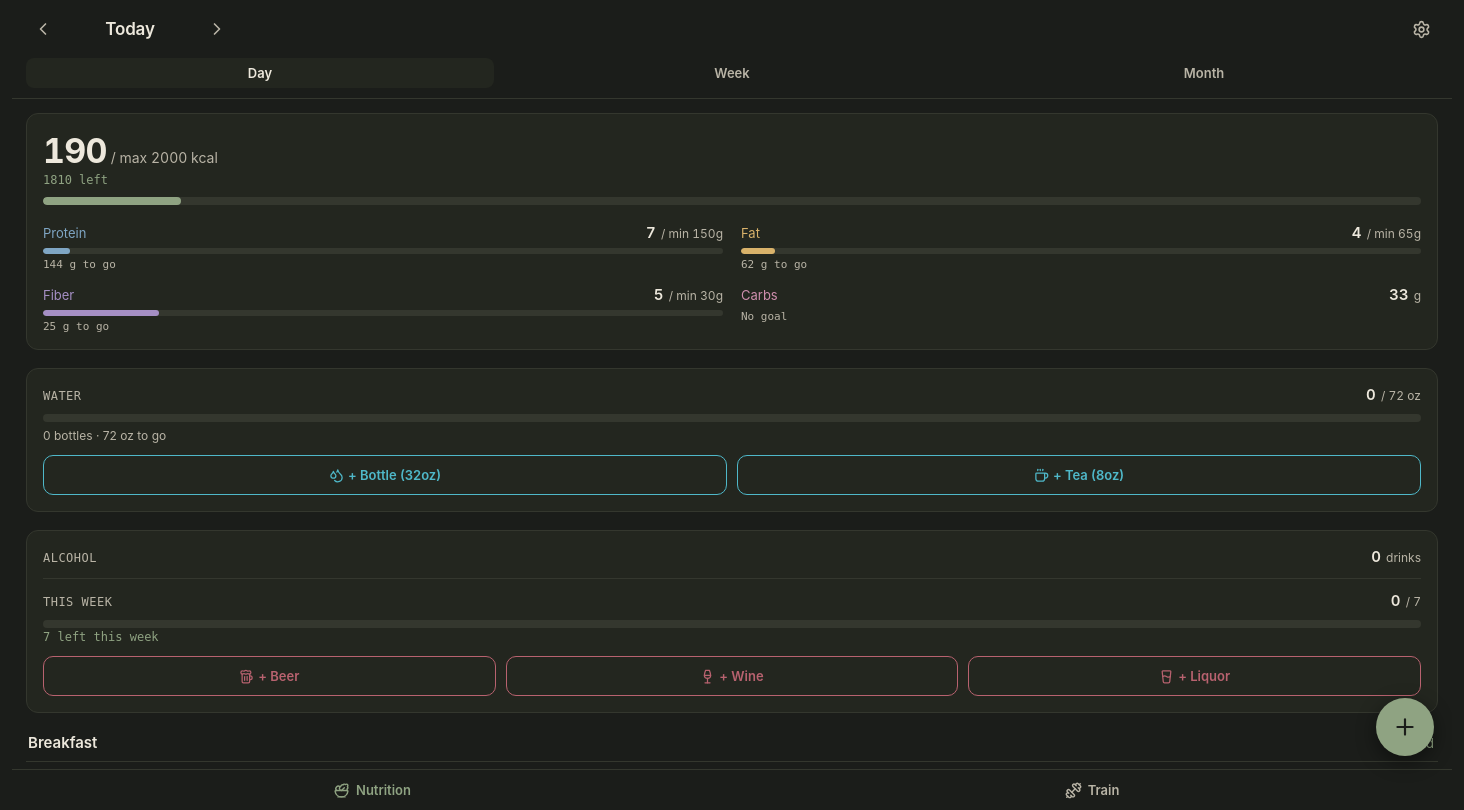
Test: App › moves between days
The width and height of the screenshot is (1464, 810).
Expected: the button "Today" is shown, [66,13,194,45]
Click the button named "Previous day".
click(43, 29)  # box [24,10,62,48]
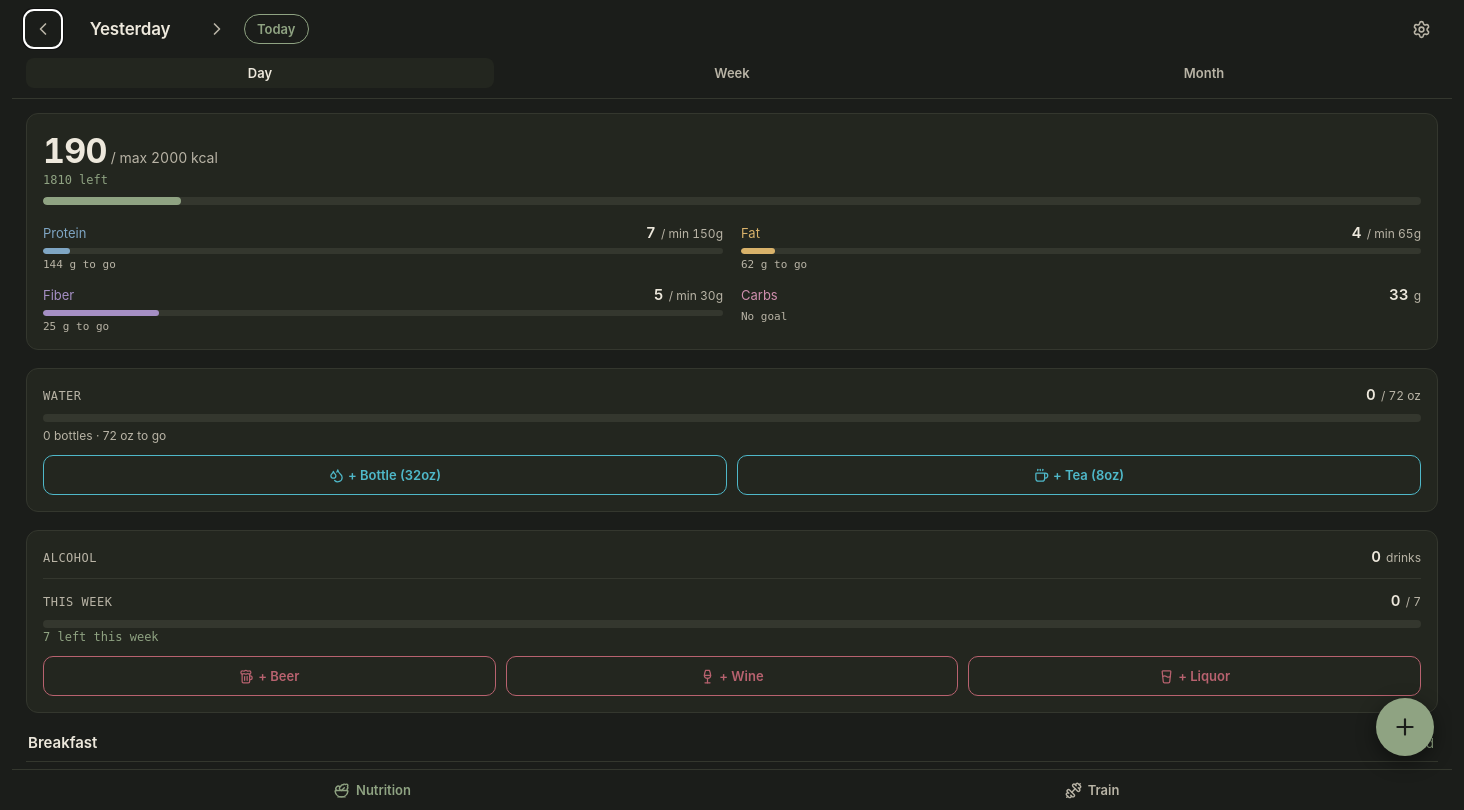
Now the button "Yesterday" is shown, box [66,13,194,45]
